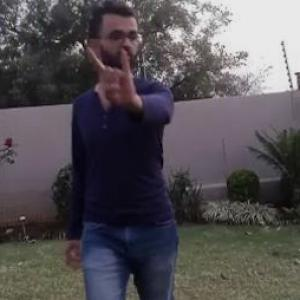takeoff-hand: (76, 45, 142, 113)
